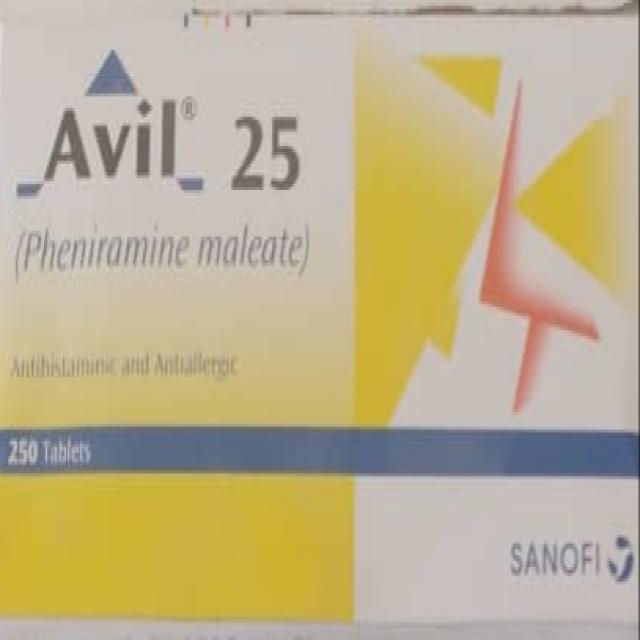drug-name: (43, 100, 311, 192)
